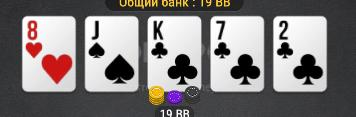2c: (274, 18, 325, 90)
7c: (213, 18, 264, 92)
8h: (23, 17, 74, 89)
Js: (86, 18, 137, 91)
Kc: (149, 18, 201, 90)
